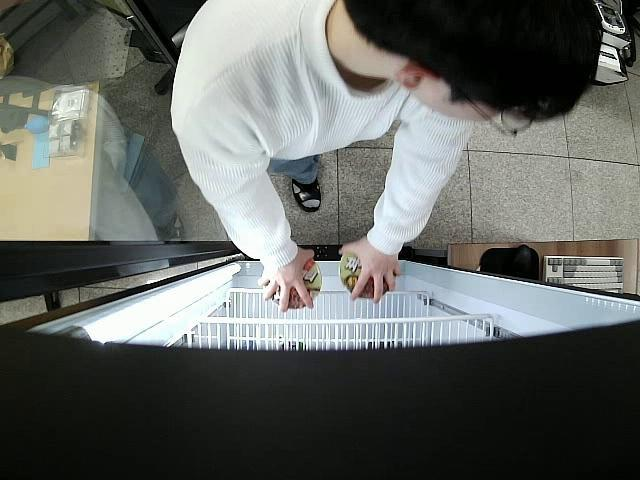03_chapagetti_L: (265, 261, 322, 310), (338, 252, 388, 299)
